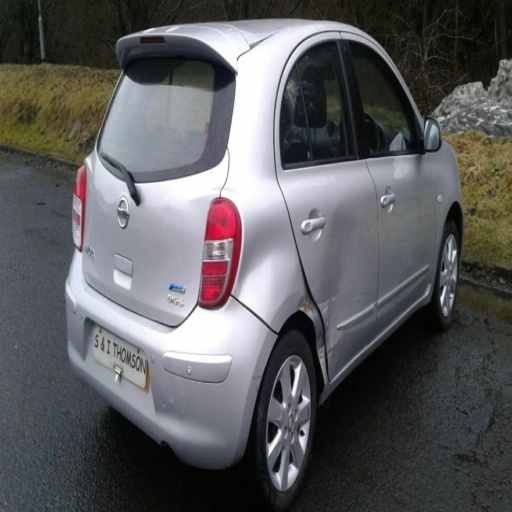dent: (227, 212, 296, 327), (317, 209, 359, 346), (159, 199, 206, 234), (298, 289, 315, 316), (318, 340, 326, 364), (162, 400, 167, 410), (245, 392, 250, 400)
rust: (301, 302, 313, 313)
scratch: (335, 300, 360, 319), (329, 346, 342, 359), (328, 340, 338, 355), (253, 374, 262, 380), (317, 331, 321, 342), (255, 385, 259, 393), (361, 291, 368, 294)
